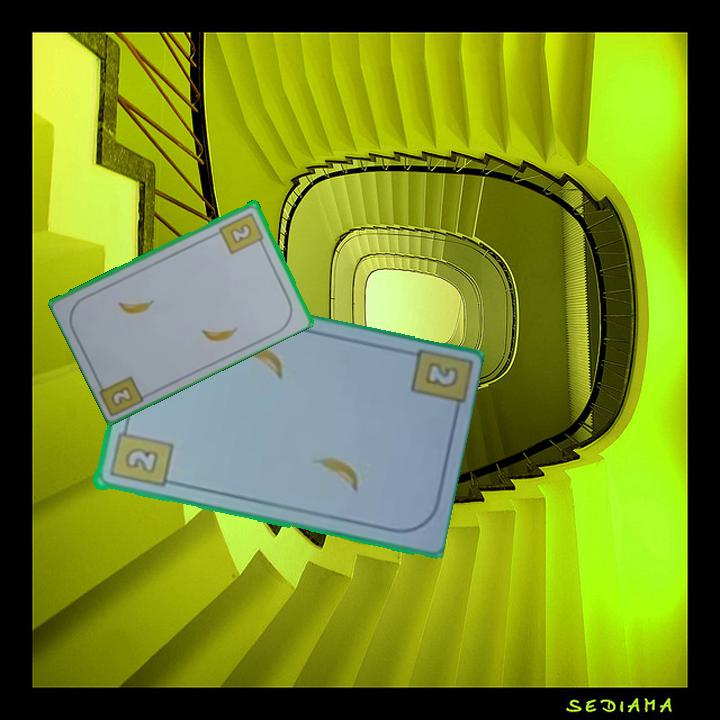2b: (106, 420, 175, 491), (216, 209, 267, 256), (420, 358, 462, 391), (109, 382, 136, 407)
